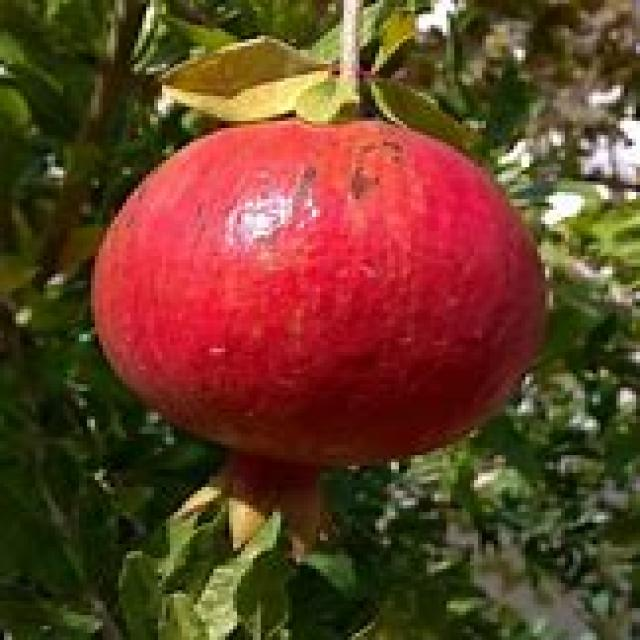Pomegranate: (87, 118, 547, 569)
